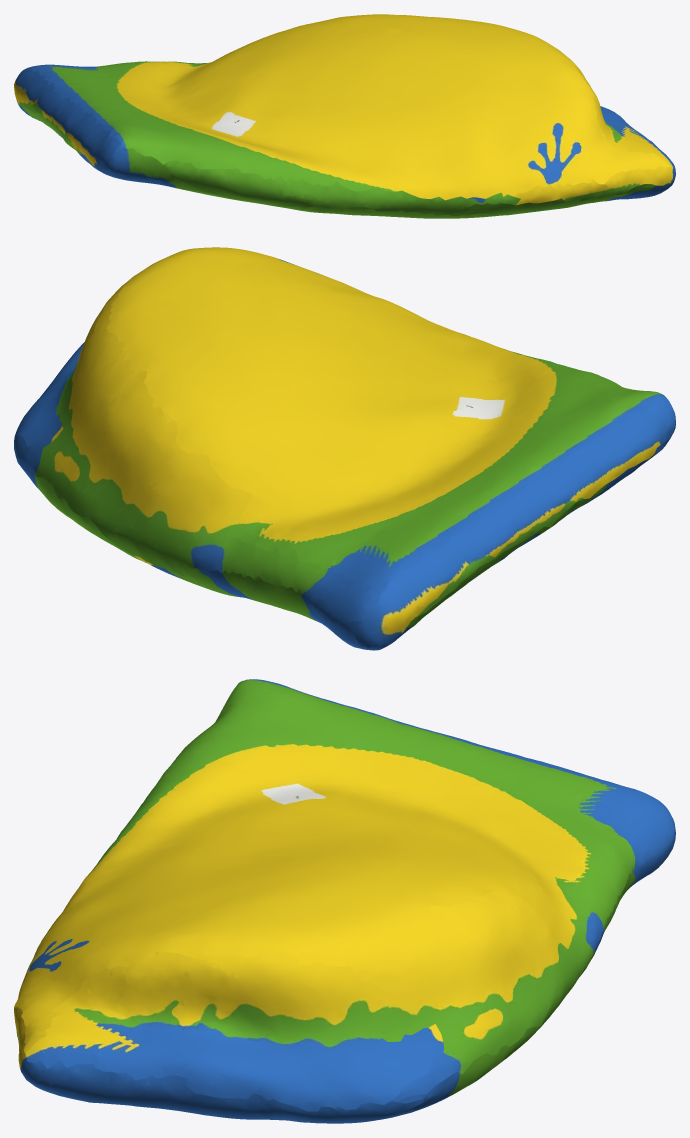
File: dome.glb
3 renders of one model, top to bottom at view 1: azimuth 30°, elevation 25°; view 2: azimuth 150°, elevation 25°; view 3: azimuth 270°, elevation 25°, orthographic. The views are drawn at different scales.
Parts seen in each view (by area): view 1: geometry_0; view 2: geometry_0; view 3: geometry_0.
Part boxes in pixels (left/top/right/bottom): geometry_0: left=14, top=14, right=675, bottom=218; geometry_0: left=14, top=247, right=675, bottom=650; geometry_0: left=14, top=679, right=675, bottom=1123.
Size of the model in its own units: 0.7914 by 0.2124 by 0.7253.
1 material, 1 textured.
